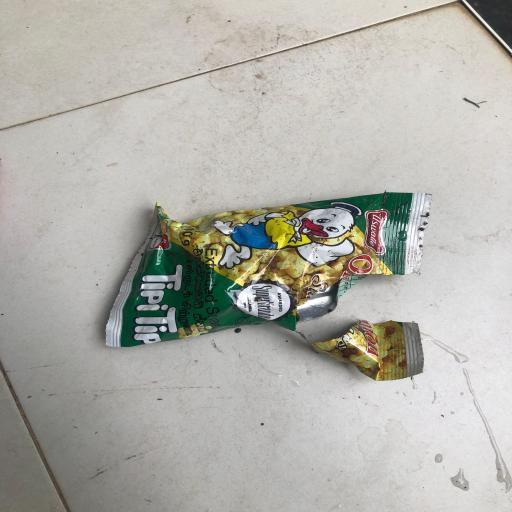waste: (93, 178, 469, 387)
